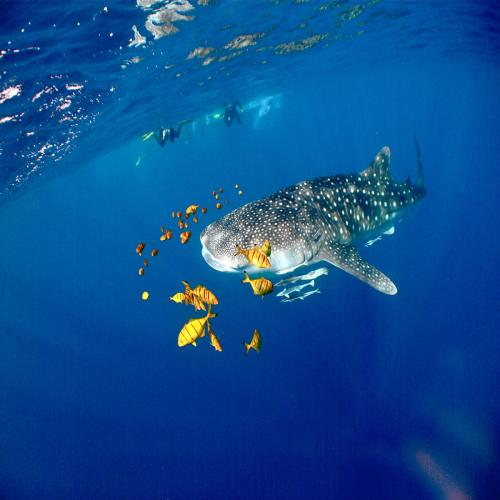shark-endangered: (201, 120, 431, 298)
